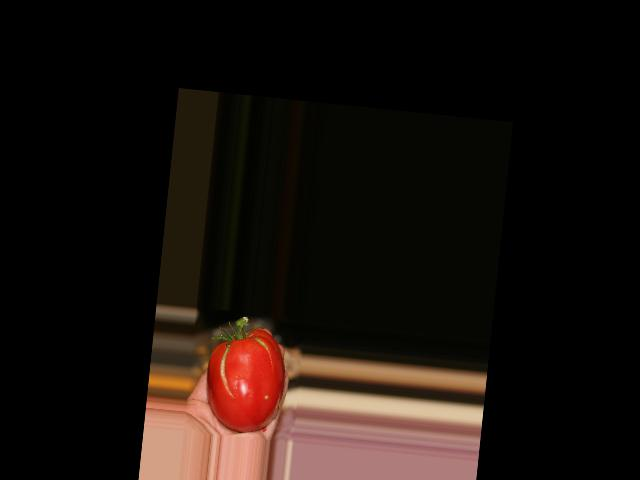tomato: (203, 324, 290, 436)
